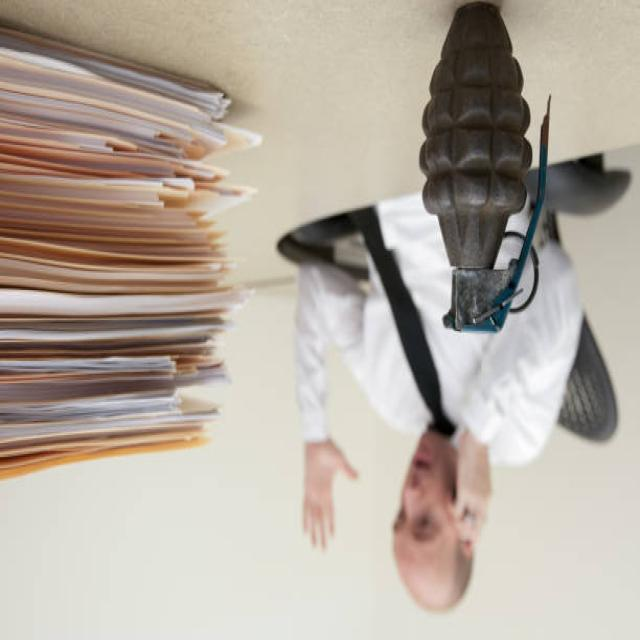grenade: (419, 8, 557, 337)
